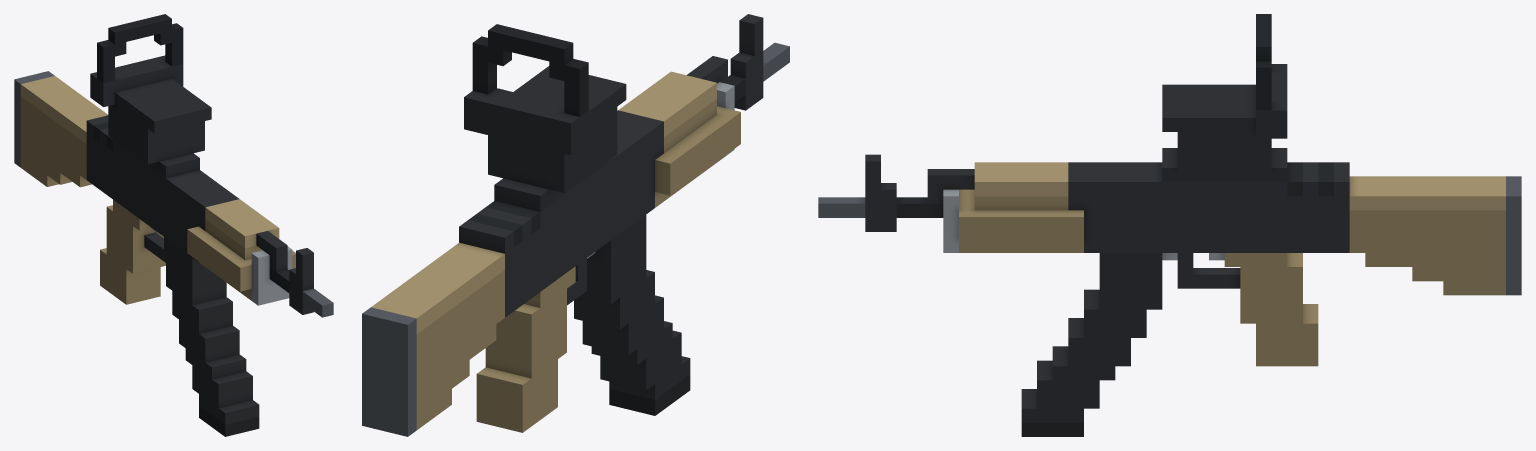
The model's file is rifle.glb.
3 views of the same model, side by side, from view 1: azimuth 30°, elevation 25°; view 2: azimuth 150°, elevation 25°; view 3: azimuth 270°, elevation 25° (orthographic). The views are drawn at different scales.
Parts seen in each view (by area): view 1: rifle_body; view 2: rifle_body; view 3: rifle_body.
Part boxes in pixels (<box>): rifle_body: <box>14,14,333,436</box>; rifle_body: <box>362,14,789,436</box>; rifle_body: <box>818,14,1521,436</box>.
Size of the model in its own units: 0.2734 by 1.09 by 1.76.
1 material, 1 textured.
